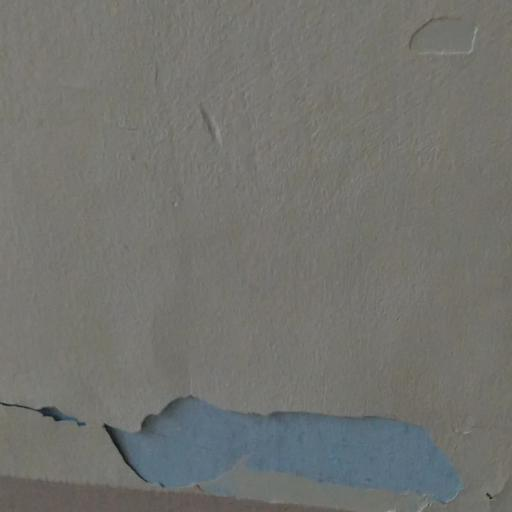peeling: (96, 381, 476, 512), (0, 379, 94, 458)
